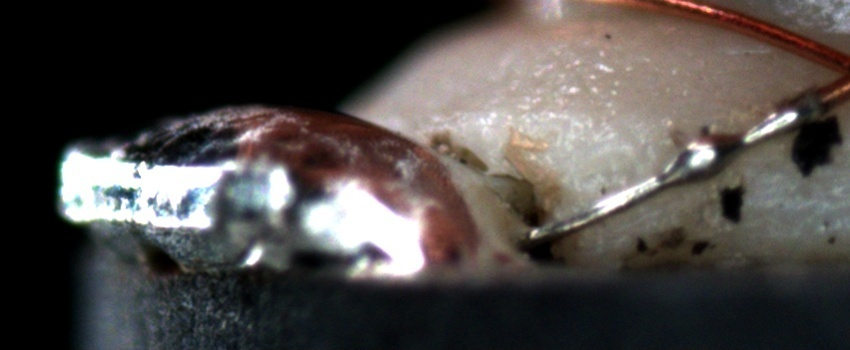TB: (665, 131, 747, 191)
TS: (527, 109, 801, 242)
TTCW: (521, 75, 849, 250)
